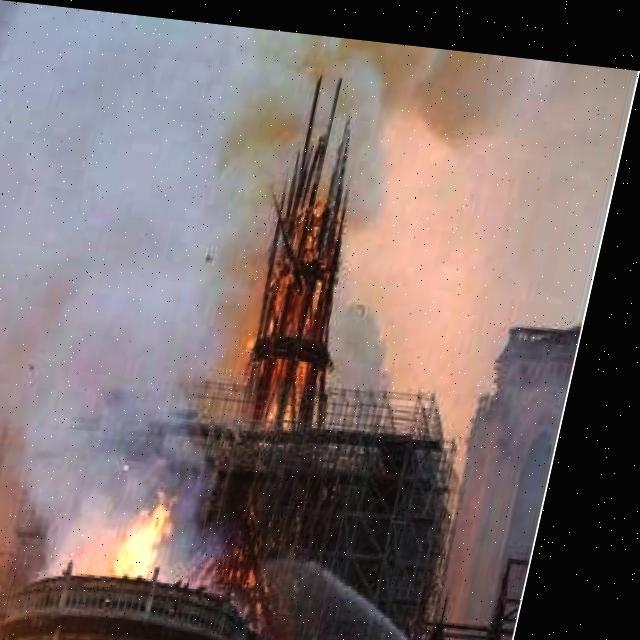Fire: (238, 185, 369, 426), (127, 472, 205, 582)
